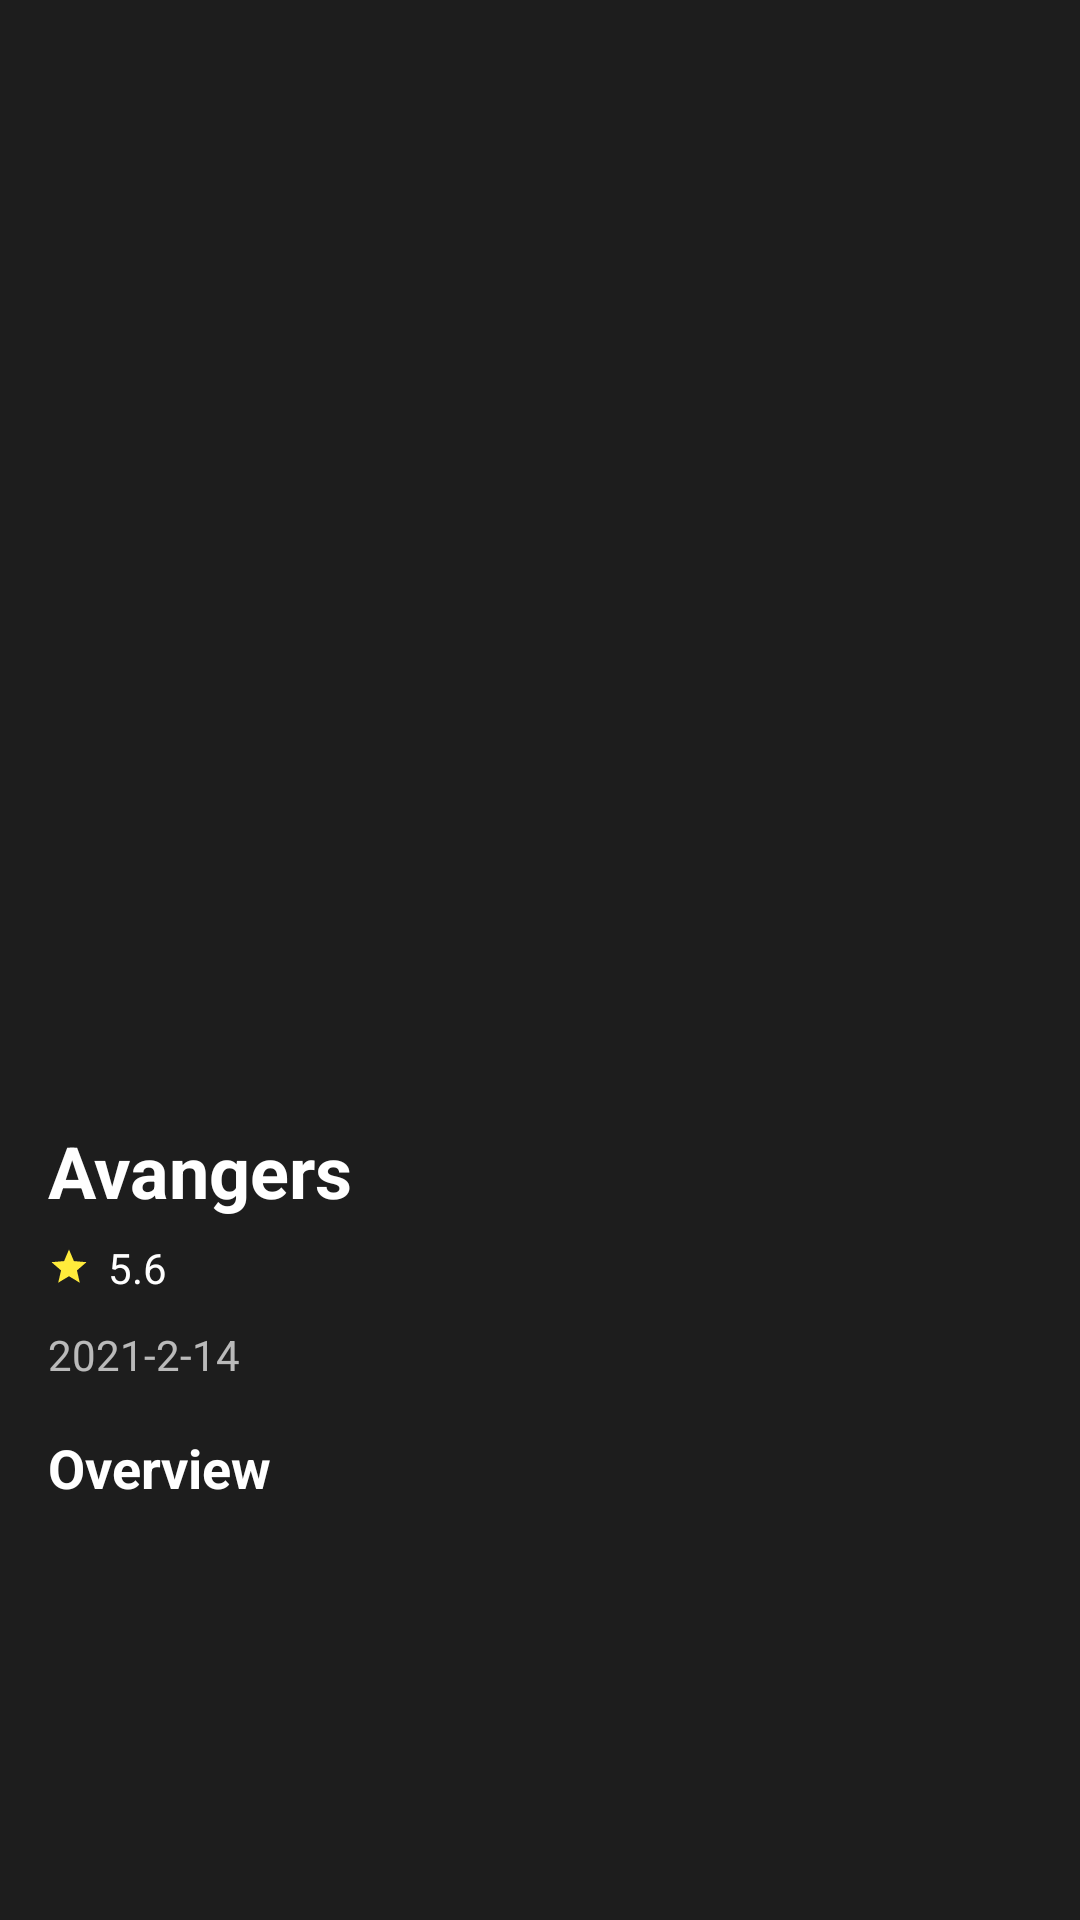

Icon click points for this 1080px x 1920px phone screenshot, format [x,y]:
star: [69,1266]
